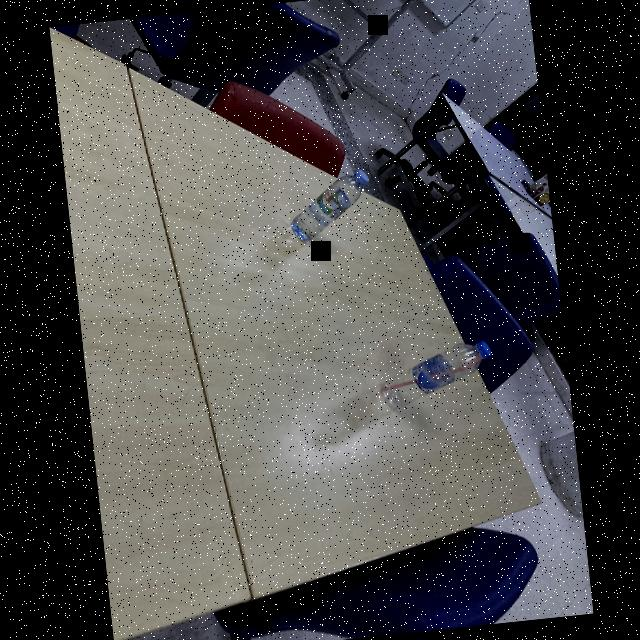plastic_bottle: (374, 339, 496, 409), (283, 169, 375, 244)
